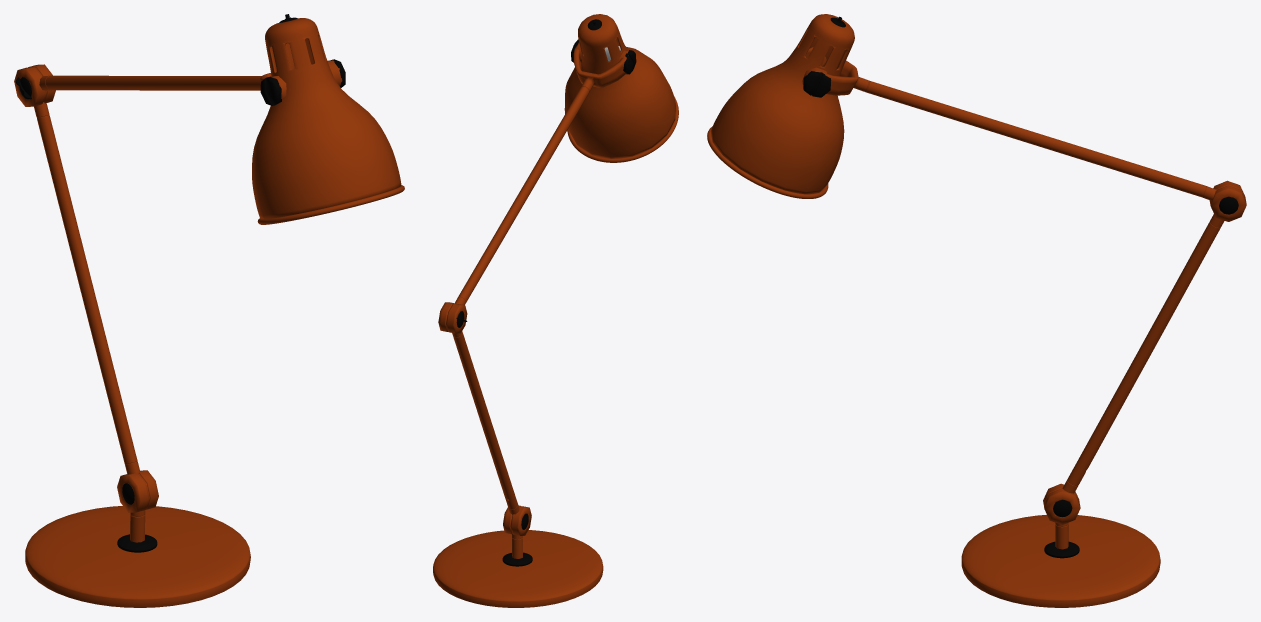
File: m_Desk lamp.FBX
3 renders of one model, left to right at view 1: azimuth 30°, elevation 25°; view 2: azimuth 150°, elevation 25°; view 3: azimuth 270°, elevation 25°, orthographic. The views are drawn at different scales.
Parts seen in each view (by area): view 1: Desk lamp; view 2: Desk lamp; view 3: Desk lamp.
Part boxes in pixels (x1,y1,x2,y2): Desk lamp: (14, 14, 404, 607); Desk lamp: (433, 14, 678, 607); Desk lamp: (707, 14, 1246, 607).
Size of the model in its own units: 22.98 by 71.41 by 62.24.
